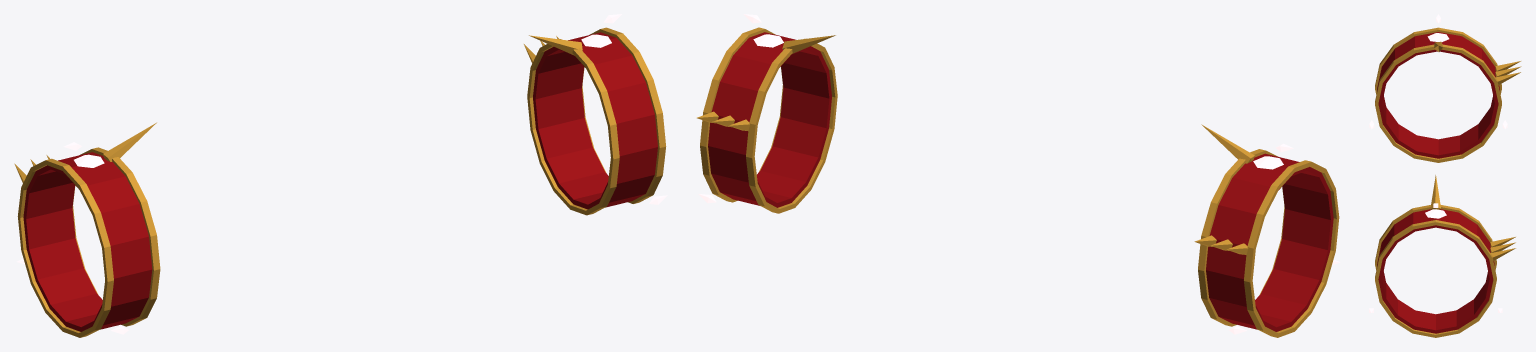
The model's file is armor_lord_arms_mythic_human.glb.
3 views of the same model, side by side, from view 1: azimuth 30°, elevation 25°; view 2: azimuth 150°, elevation 25°; view 3: azimuth 270°, elevation 25° (orthographic). The views are drawn at different scales.
Parts seen in each view (by area): view 1: armor_lord_arms_mythic_human__lowerarm_r, armor_lord_arms_mythic_human__lowerarm_l; view 2: armor_lord_arms_mythic_human__lowerarm_r, armor_lord_arms_mythic_human__lowerarm_l; view 3: armor_lord_arms_mythic_human__lowerarm_r, armor_lord_arms_mythic_human__lowerarm_l.
Part boxes in pixels (box(x1,y1,x2,y2)): armor_lord_arms_mythic_human__lowerarm_r: box(14, 122, 160, 337); armor_lord_arms_mythic_human__lowerarm_l: box(524, 14, 667, 215); armor_lord_arms_mythic_human__lowerarm_r: box(1194, 124, 1340, 337); armor_lord_arms_mythic_human__lowerarm_l: box(697, 14, 837, 213); armor_lord_arms_mythic_human__lowerarm_r: box(1369, 14, 1521, 162); armor_lord_arms_mythic_human__lowerarm_l: box(1369, 175, 1515, 337).
Bounding box in the file's own units: 120 × 38.26 × 40.13.
